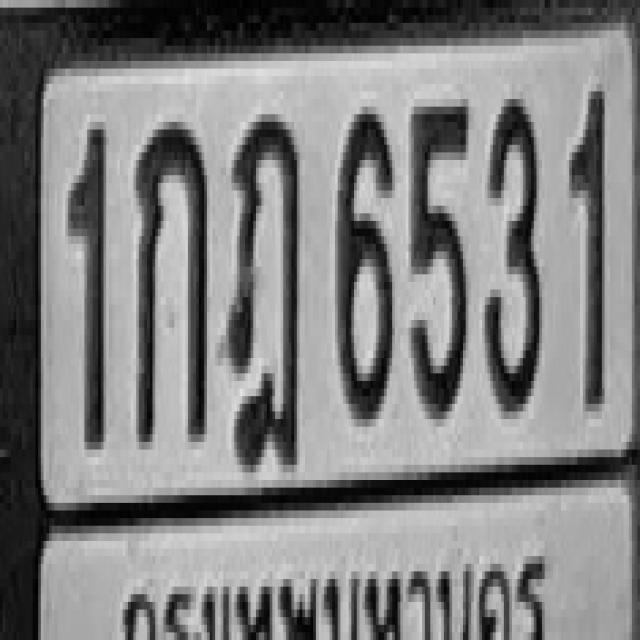1: (67, 122, 105, 442), (568, 84, 606, 404)
10GorGai: (134, 114, 206, 442)
23DorChaDa: (226, 107, 300, 464)
3: (484, 88, 540, 408)
5: (408, 95, 468, 415)
6: (336, 103, 394, 415)
